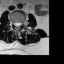CCS_normal: (16, 20, 18, 29)
LFS_normal: (21, 20, 23, 27)
LLS_normal: (18, 20, 21, 28)
RFS_normal: (12, 19, 14, 27)
RLS_normal: (14, 20, 16, 28)
